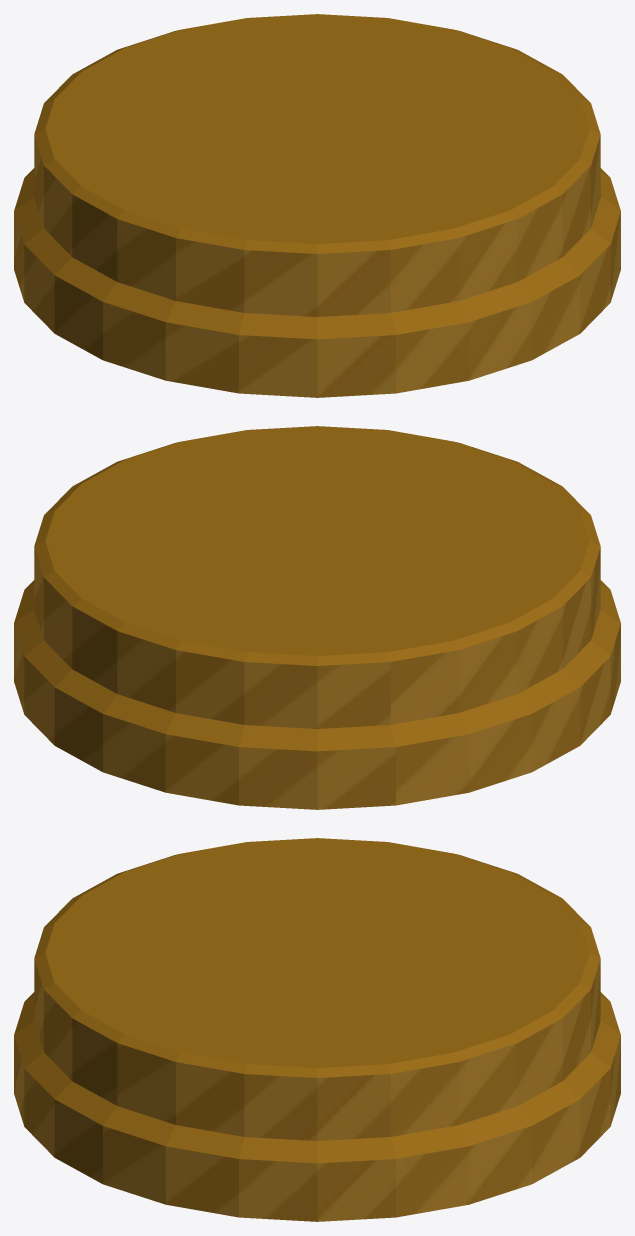
The model's file is letssee.fbx.
The picture shows the model from 3 angles, top to bottom: view 1: azimuth 30°, elevation 25°; view 2: azimuth 150°, elevation 25°; view 3: azimuth 270°, elevation 25°; orthographic projection.
Parts seen in each view (by area): view 1: Magnet.006; view 2: Magnet.006; view 3: Magnet.006.
Boxes of the visible parts, x1,y1,x2,y2 form: Magnet.006: (14,14,620,397); Magnet.006: (14,426,620,809); Magnet.006: (14,838,620,1221).
Size of the model in its own units: 10.19 by 2.6 by 10.19.
